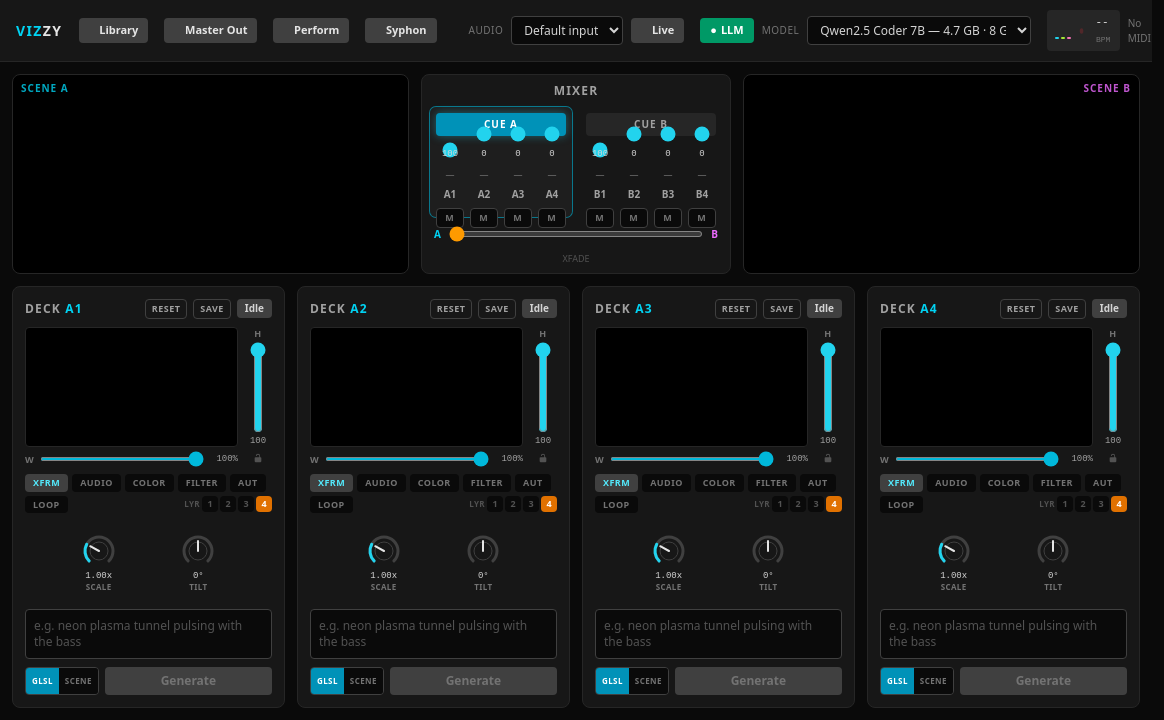
procedural scene generation › an unparseable scene response fails the deck with the specific error
Type "something" into the 1st text box with placeholder "e.g. neon plasma tunnel pulsing with the bass". click: point(148, 634)
box: [25,609,272,659]
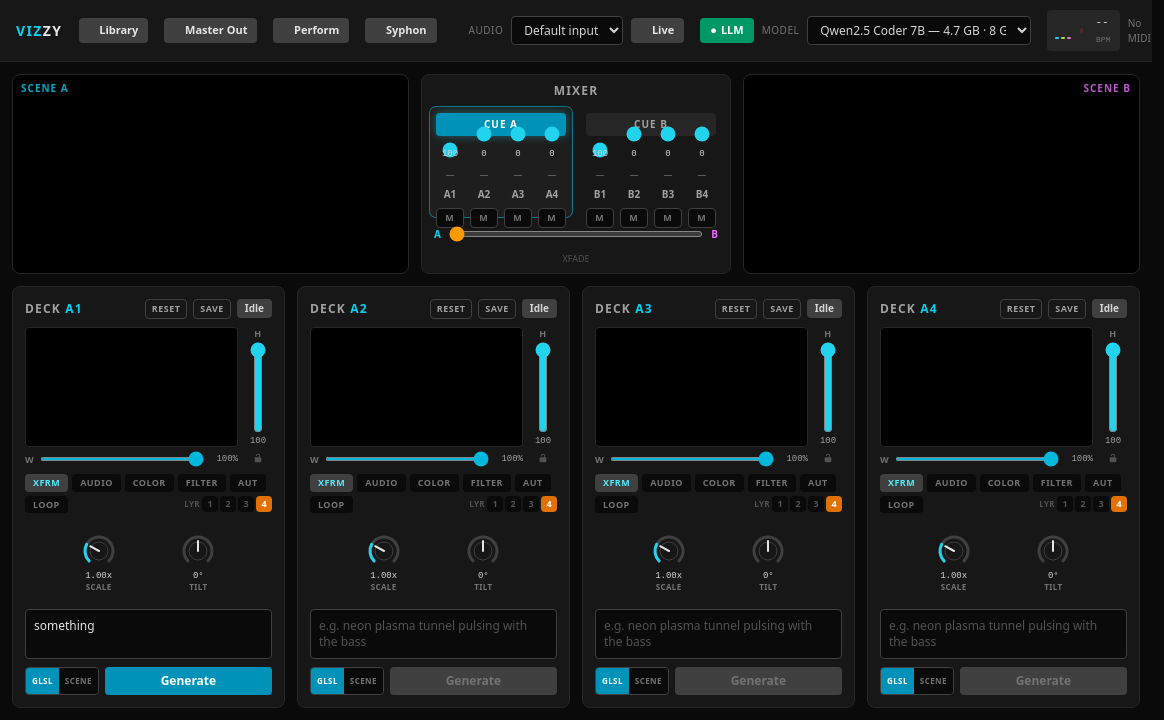
Click the 1st button "SCENE". click: point(78, 681)
box: [59,668,98,694]
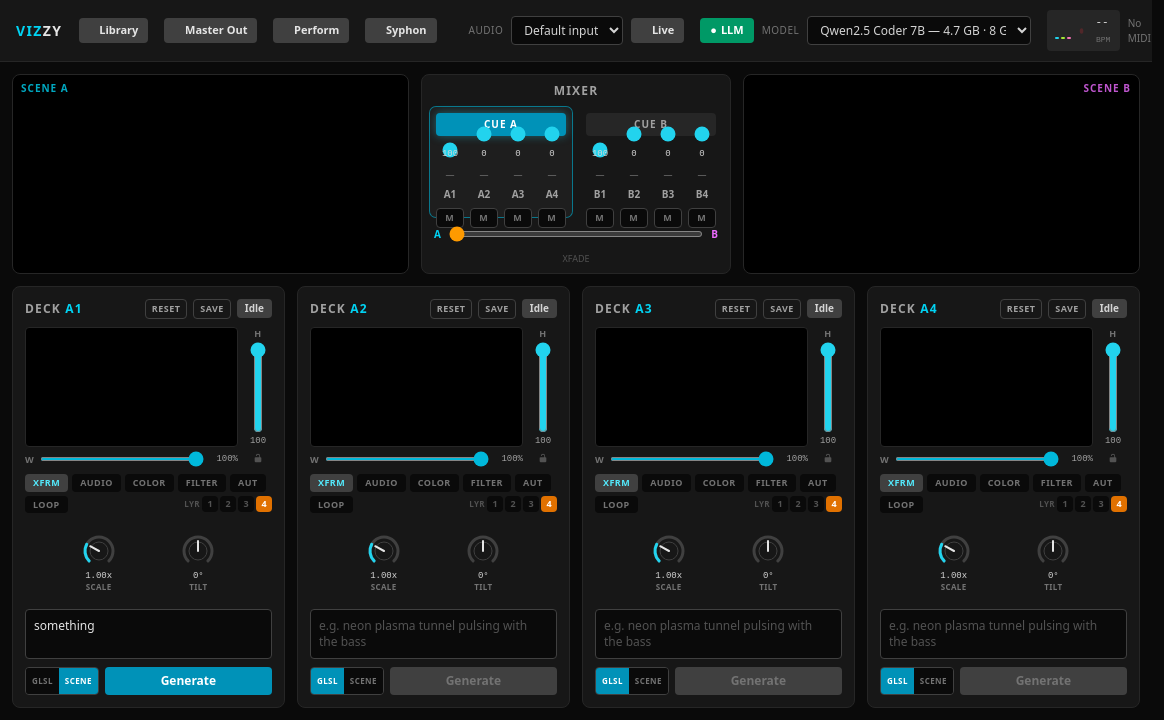
Click the 1st button "Generate". click: point(188, 681)
box: [105,667,272,695]
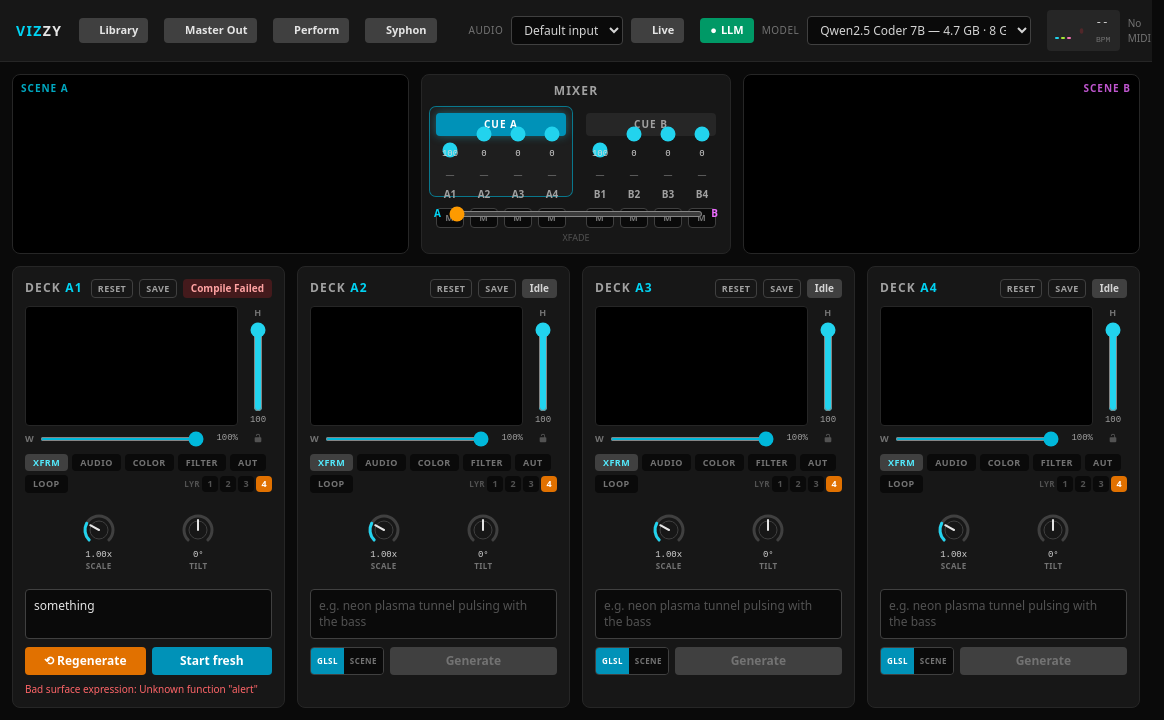
Expected: the text "Bad surface expression: Unknown function \"alert\"" is shown, [25,682,272,695]
